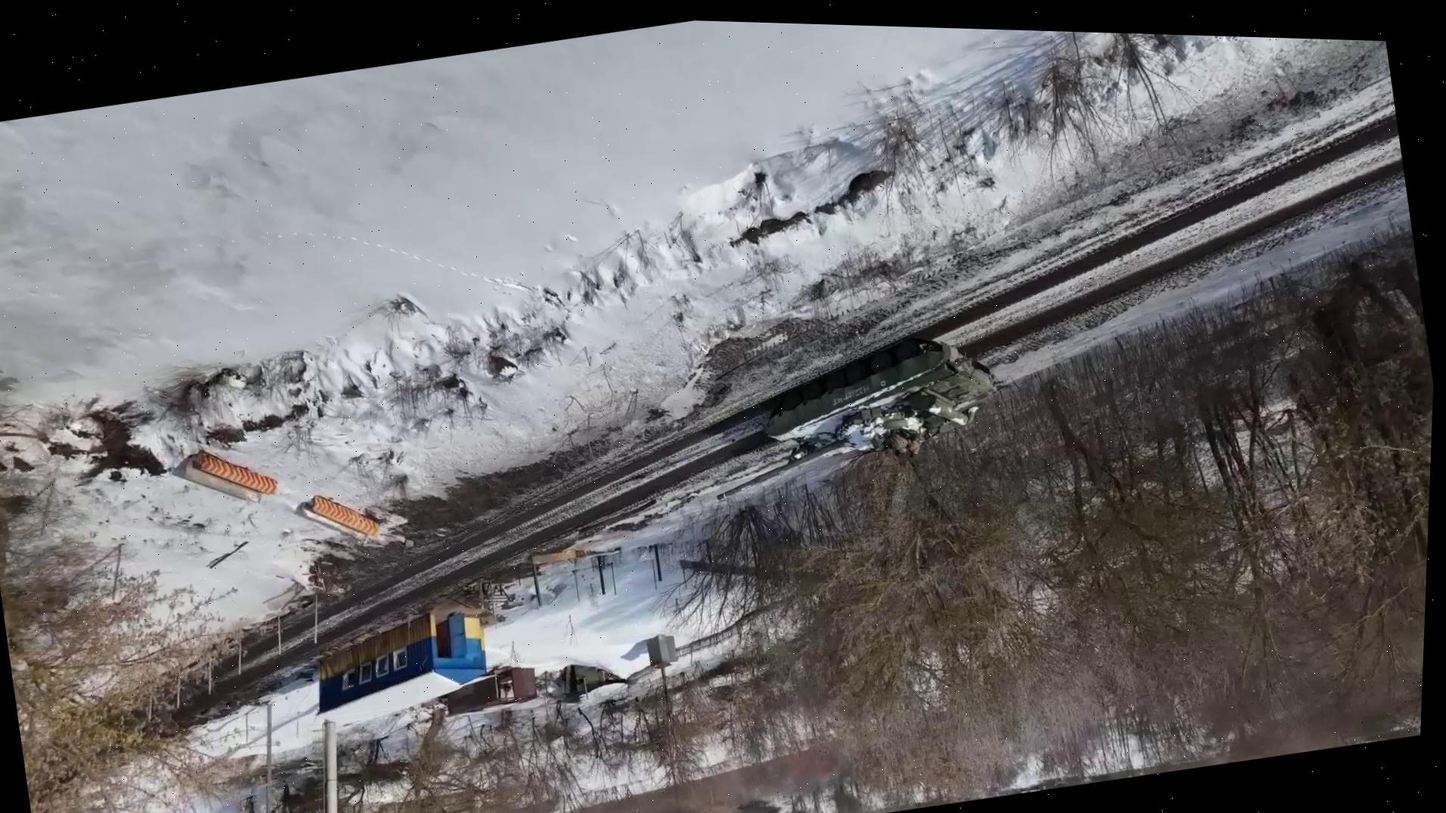tank: (692, 317, 1024, 514)
